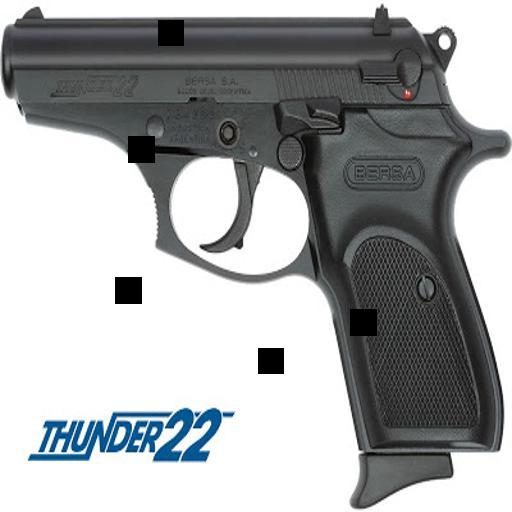Handgun: (1, 5, 503, 500)
